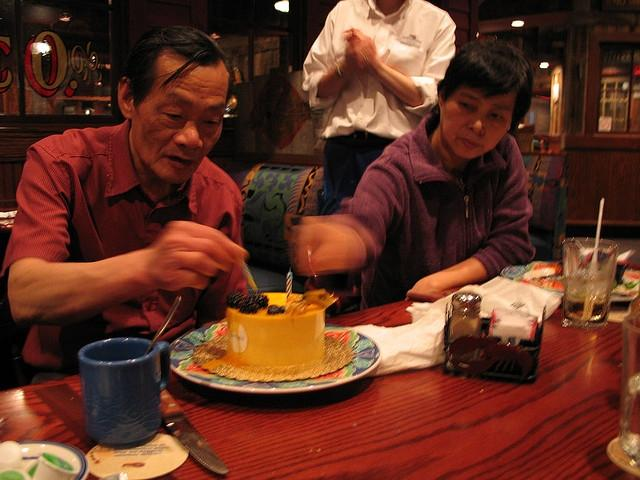blackberry: (226, 294, 244, 309), (264, 298, 268, 304)
